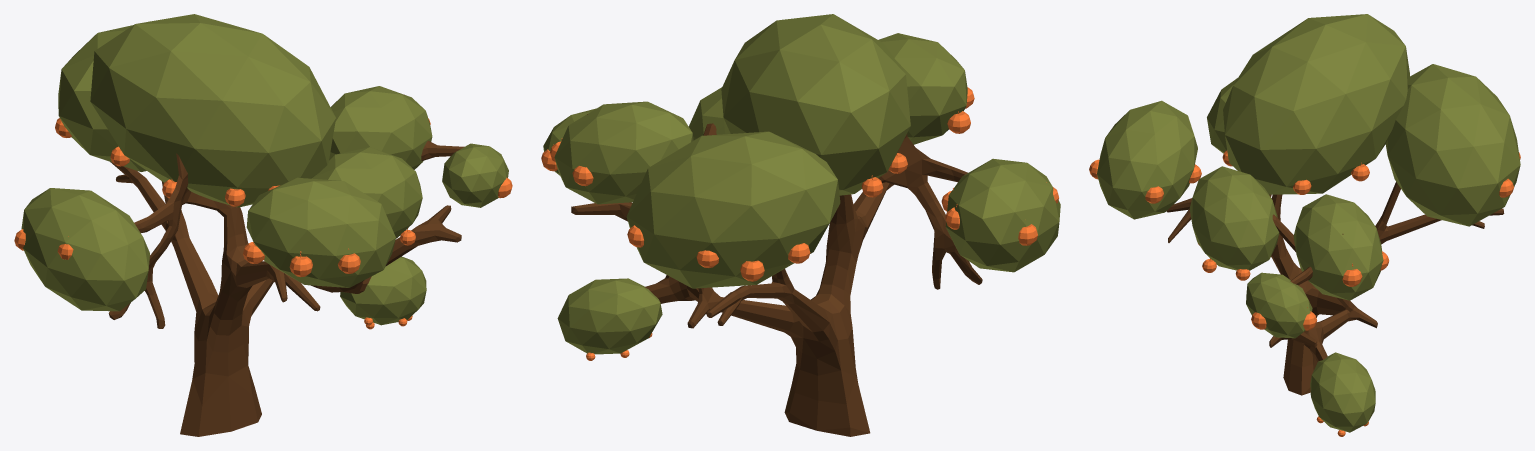
Rendered from tree06.fbx.
The picture shows the model from 3 angles, left to right: view 1: azimuth 30°, elevation 25°; view 2: azimuth 150°, elevation 25°; view 3: azimuth 270°, elevation 25°; orthographic projection. The views are drawn at different scales.
Parts seen in each view (by area): view 1: Plane.022; view 2: Plane.022; view 3: Plane.022.
Boxes of the visible parts, box(x1,y1,x2,y2) form: Plane.022: box(14, 14, 512, 436); Plane.022: box(541, 14, 1060, 436); Plane.022: box(1089, 14, 1520, 436).
Size of the model in its own units: 3.87 by 3.06 by 3.41.
